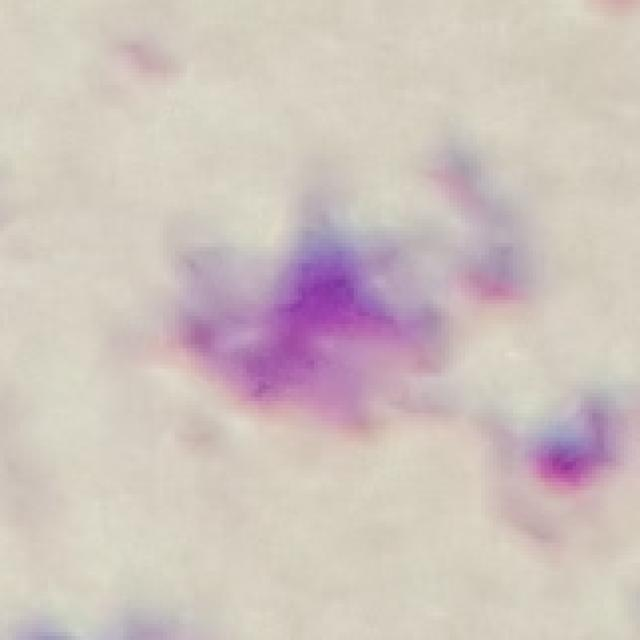non-sperm: (123, 135, 518, 495)
